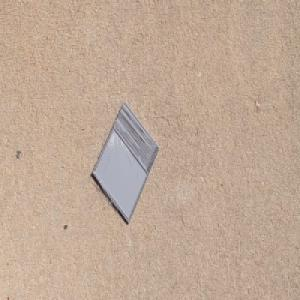PlasticPart: (91, 101, 160, 226)
